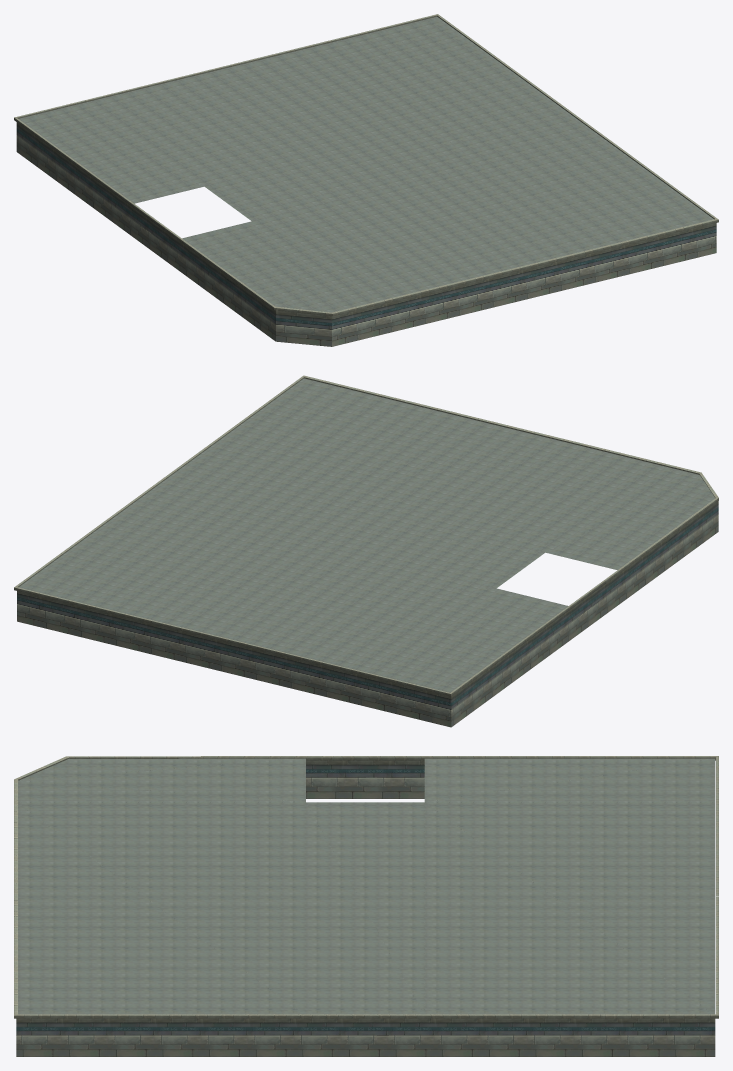
The model's file is szc_building_dimian_quyu04_01.FBX.
3 views of the same model, one above another, from view 1: azimuth 30°, elevation 25°; view 2: azimuth 150°, elevation 25°; view 3: azimuth 270°, elevation 25° (orthographic). The views are drawn at different scales.
Parts seen in each view (by area): view 1: szc_building_dimian_quyu04_01; view 2: szc_building_dimian_quyu04_01; view 3: szc_building_dimian_quyu04_01.
Boxes of the visible parts, <box> form: szc_building_dimian_quyu04_01: <box>14,14,718,346</box>; szc_building_dimian_quyu04_01: <box>14,375,718,727</box>; szc_building_dimian_quyu04_01: <box>14,756,718,1056</box>.
Bounding box in the file's own units: 3312 × 251 × 3802.
